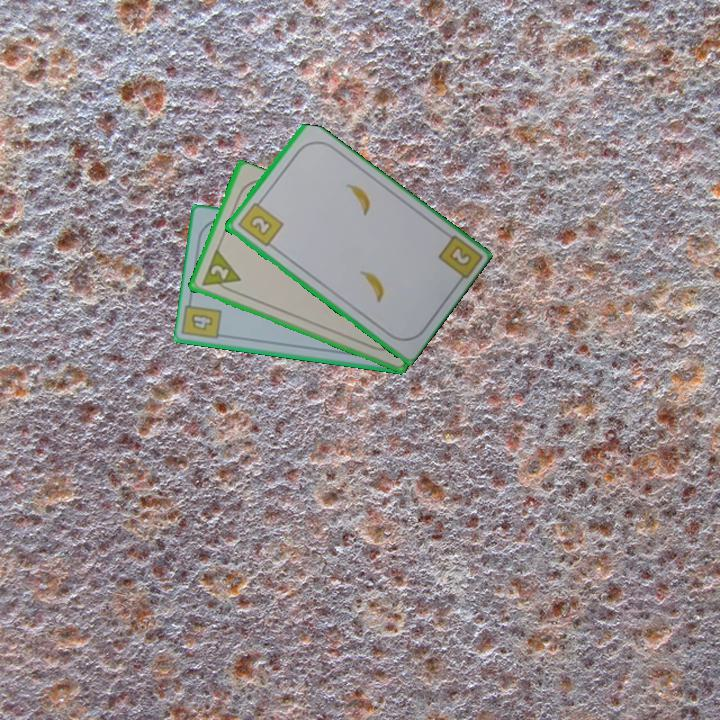2b: (234, 195, 286, 249), (445, 242, 474, 269)
2p: (197, 247, 243, 297)
4b: (187, 311, 215, 334)
